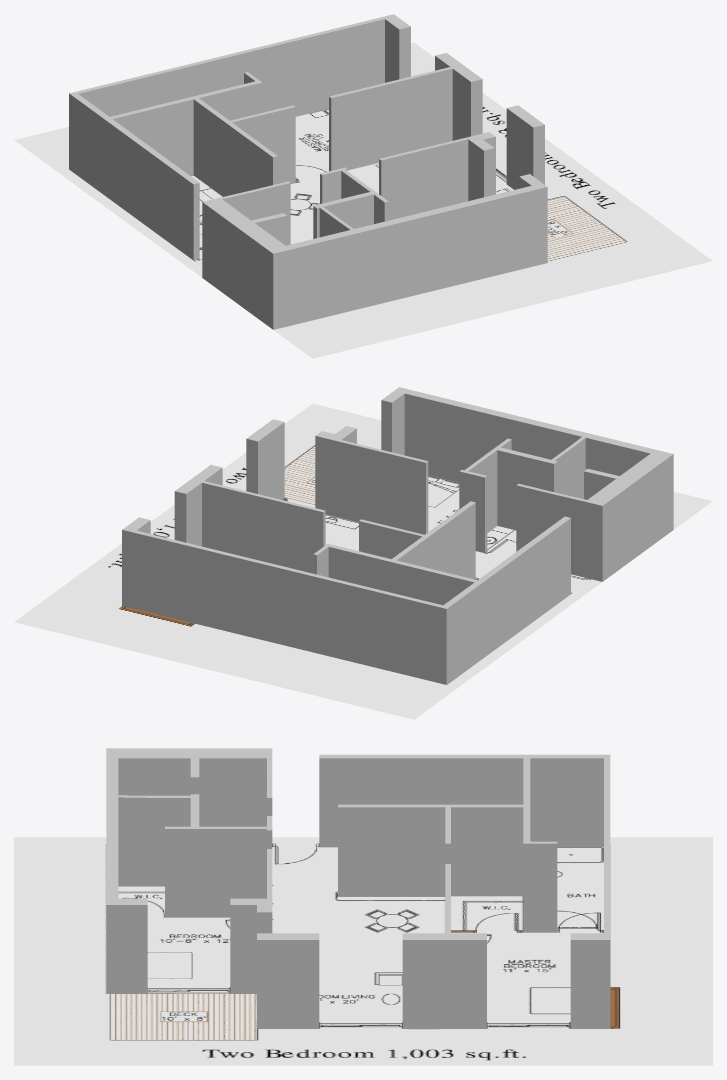
The model's file is HouseV3.fbx.
The picture shows the model from 3 angles, top to bottom: view 1: azimuth 30°, elevation 25°; view 2: azimuth 150°, elevation 25°; view 3: azimuth 270°, elevation 25°; orthographic projection. The views are drawn at different scales.
Parts seen in each view (by area): view 1: FloorPlanV3; view 2: FloorPlanV3; view 3: FloorPlanV3.
Boxes of the visible parts, box(x1,y1,x2,y2) form: FloorPlanV3: box(14, 14, 712, 358); FloorPlanV3: box(14, 387, 712, 719); FloorPlanV3: box(14, 748, 712, 1065).
Size of the model in its own units: 3513 by 638 by 4542.
